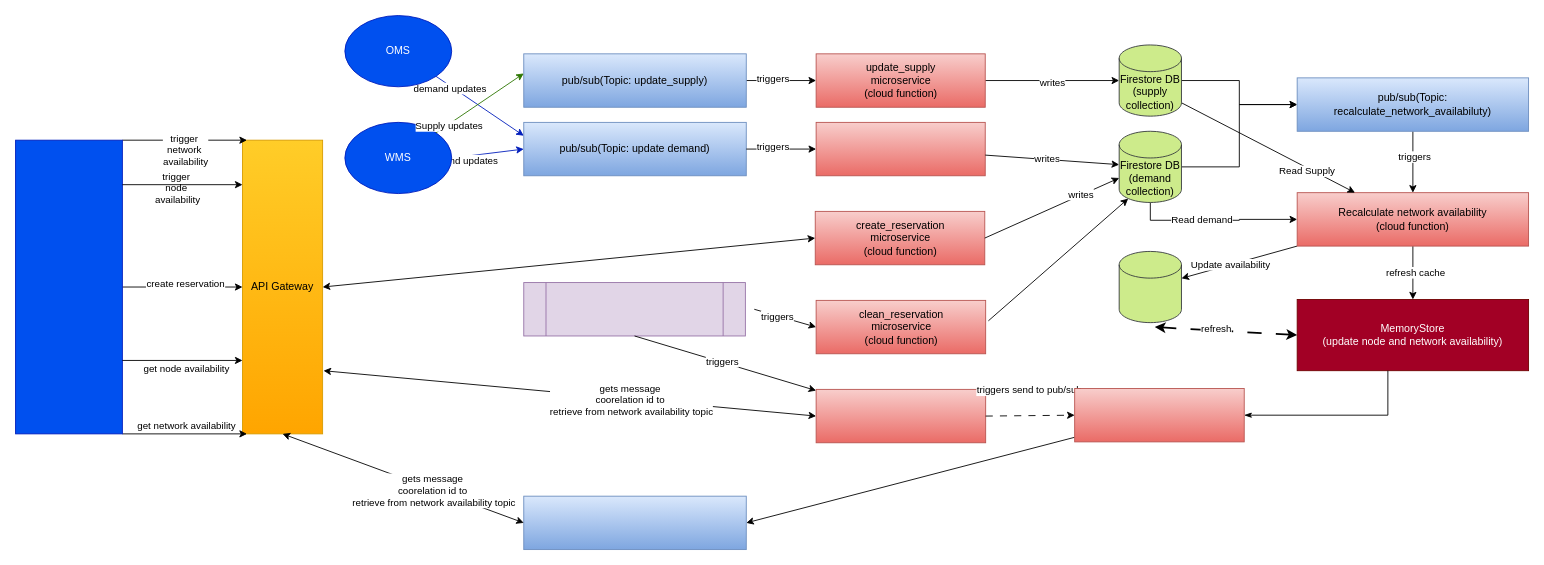
Some shapes in this 1544 by 565 pixel diagram are drawn without their labels. Here are the shapes that lost their labels. From the top down, the centre of each, then its label:
the point at 900,148: update_demand microservice (cloud function)
the point at 68,286: Selling channel
the point at 1149,287: Firestore DB (availability)
the point at 634,309: cloud scheduler
the point at 900,415: get node/network availability microservice (cloud function)
the point at 1159,415: reads from cache and send to pubsub (cloud function)
the point at 634,522: pub/sub(Topic: network availability)
